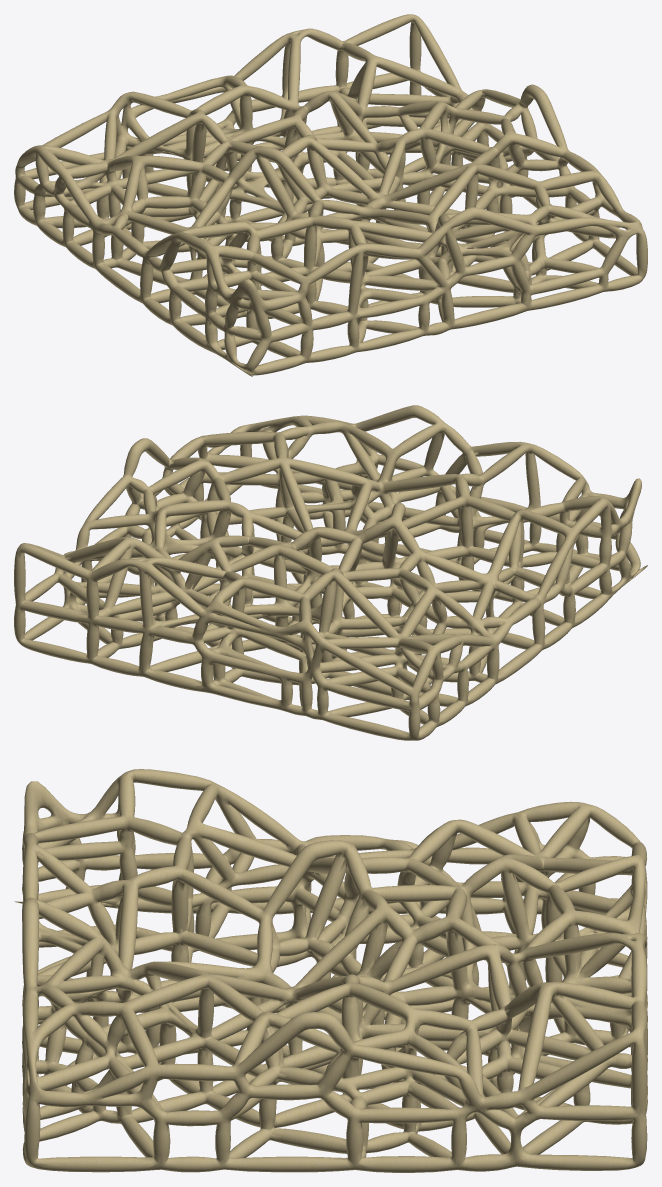
Rendered from Mossify_V2.glb.
3 views of the same model, one above another, from view 1: azimuth 30°, elevation 25°; view 2: azimuth 150°, elevation 25°; view 3: azimuth 270°, elevation 25° (orthographic). The views are drawn at different scales.
Visible parts, largest first — view 1: object_1; view 2: object_1; view 3: object_1.
Boxes of the visible parts, box(x1,y1,x2,y2) form: object_1: box(14, 14, 647, 376); object_1: box(14, 405, 647, 740); object_1: box(14, 769, 647, 1172).
Size of the model in its own units: 2.67 by 0.7481 by 2.69.
1 material, 1 textured.
